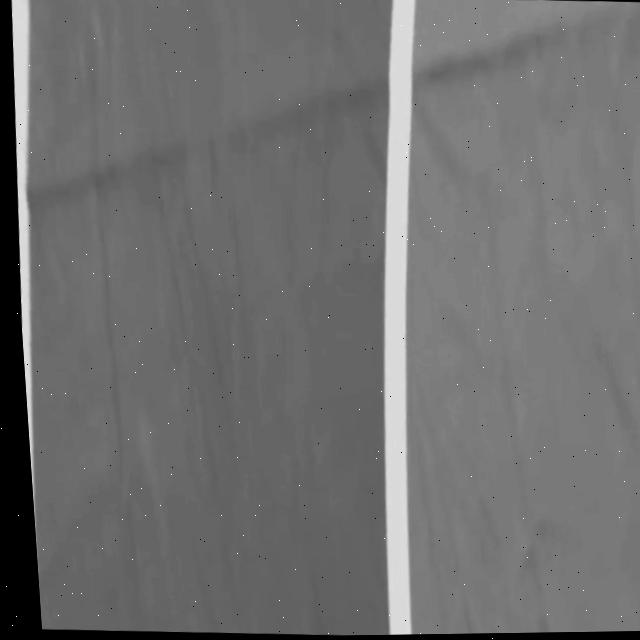center: (11, 0, 38, 563)
left: (384, 0, 416, 635)
